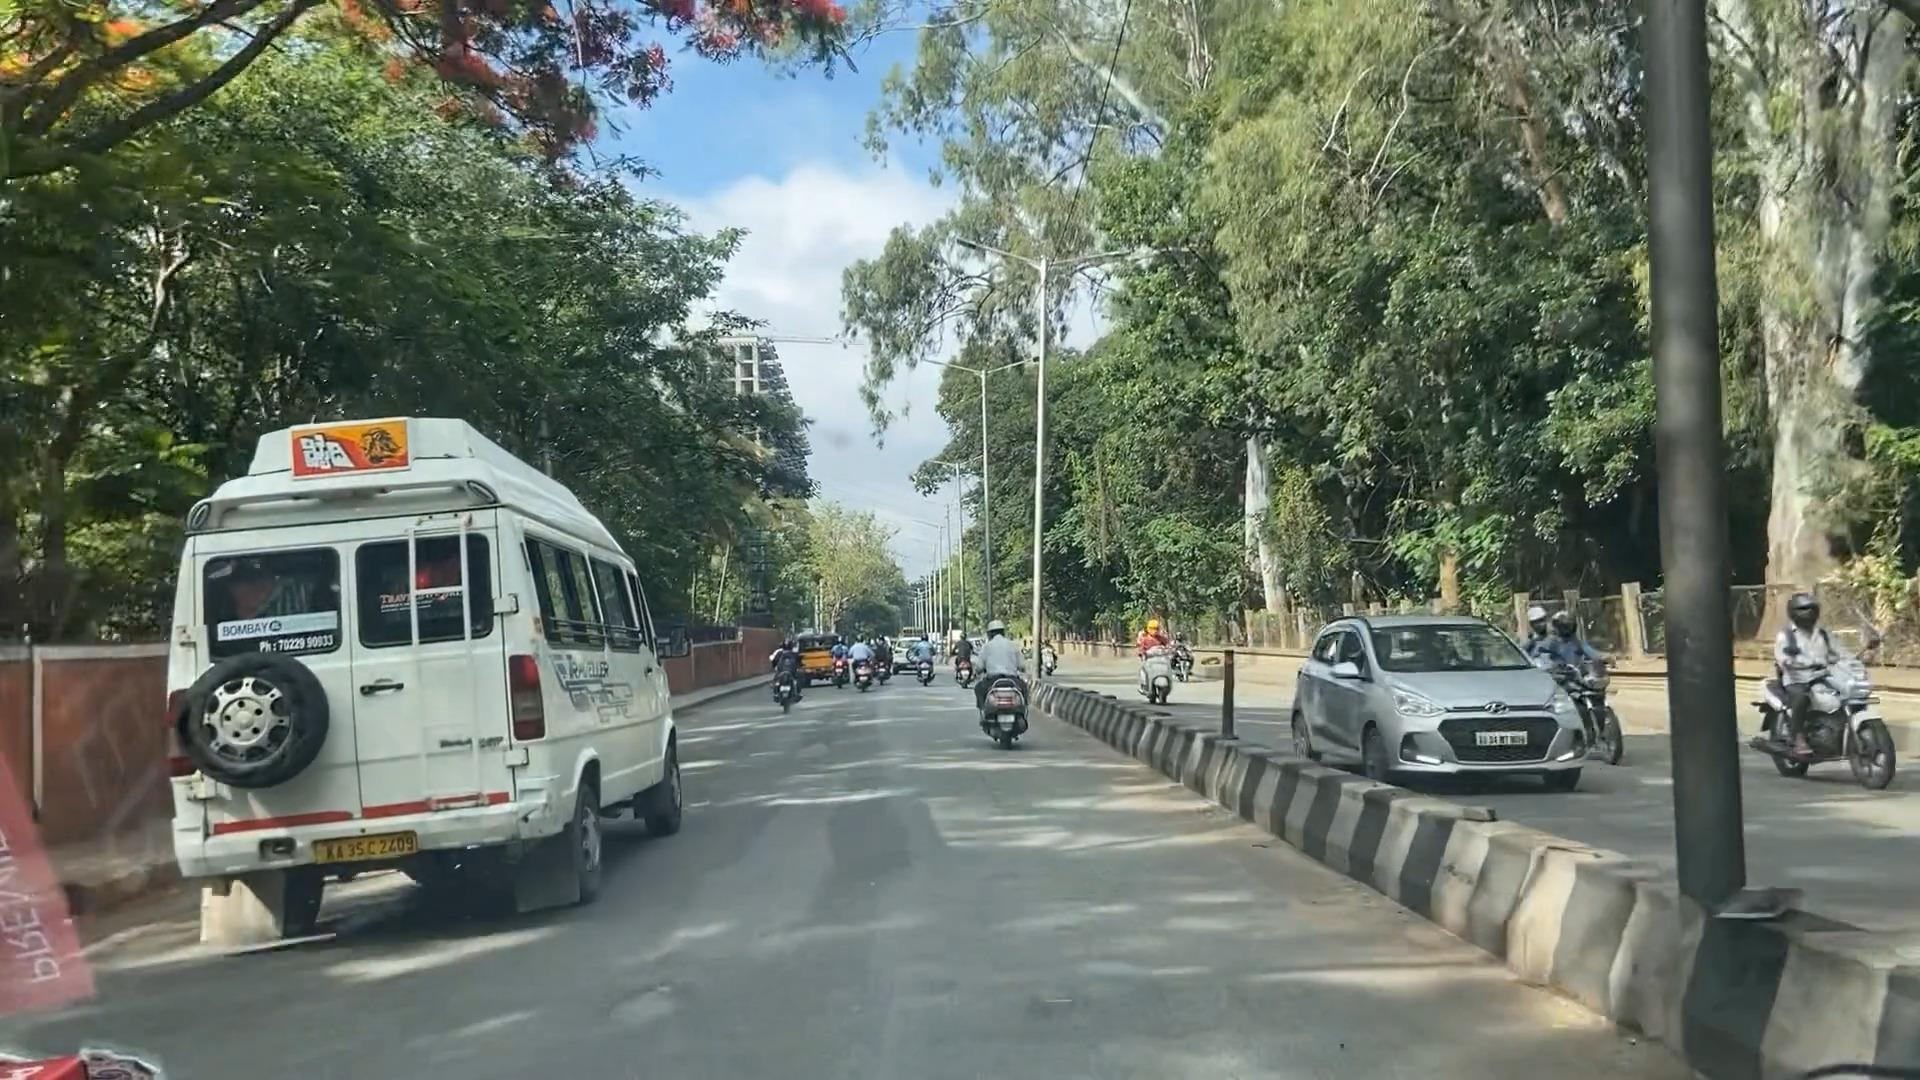HMV: (164, 440, 595, 926)
LMV: (975, 600, 1018, 749), (775, 630, 806, 720)
